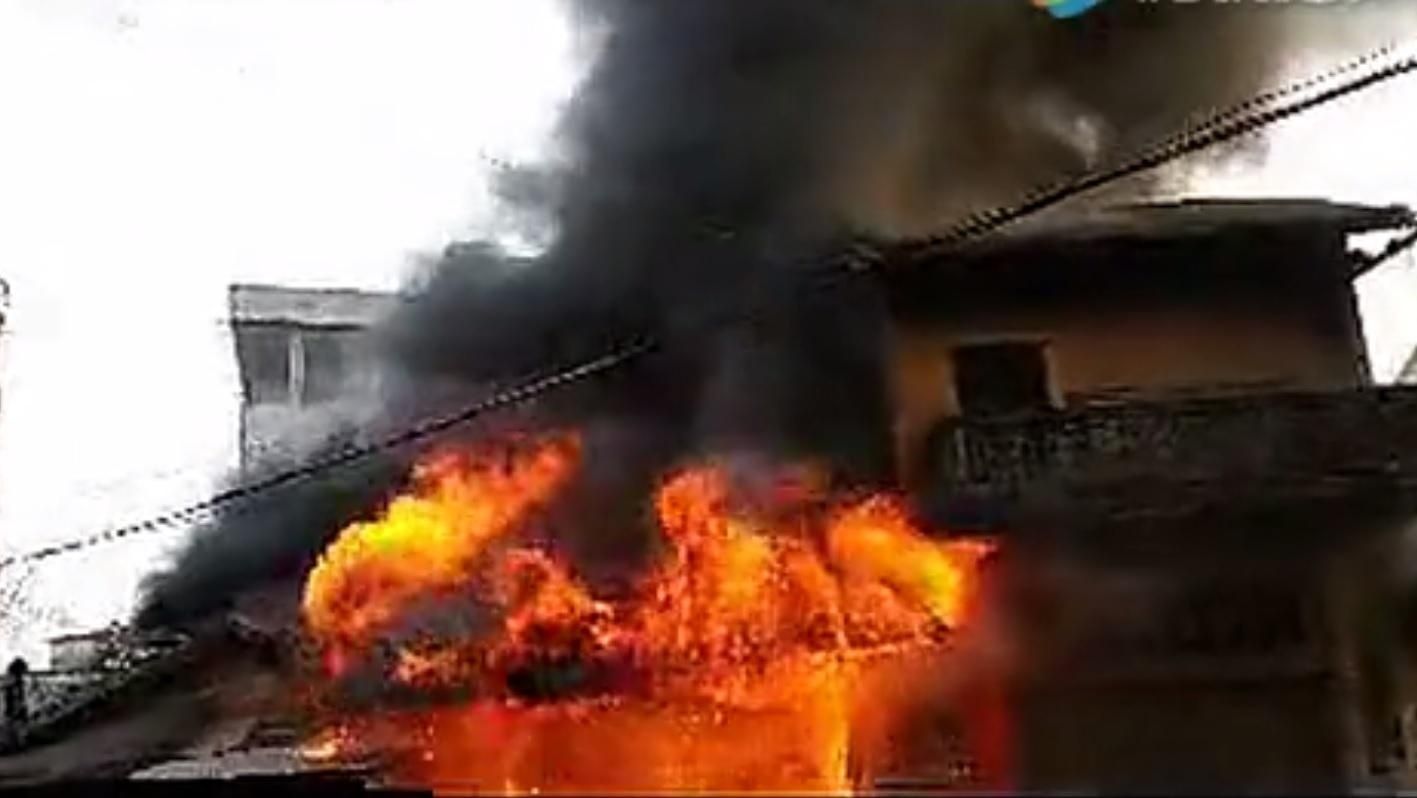fire: (286, 410, 1015, 774)
